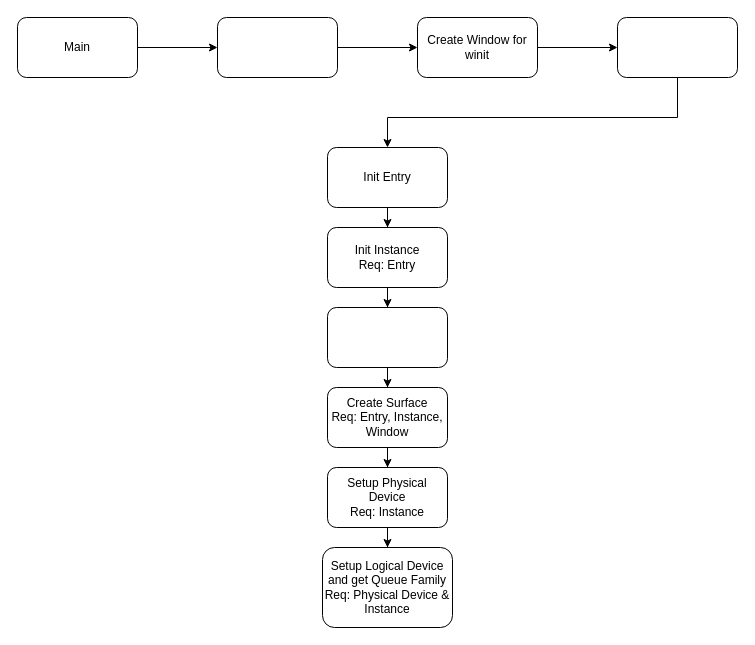
This 755x645 diagram has some shape labels left out. The shapes that lost their labels are listed below. From the top down, each one's centre as x and y in pixels, then its label:
[277,47]: Create EventLoop for winit
[677,47]: Start init of vulkan
[387,337]: Setup Vulkan Validation Layers Req: Entry & Instance
